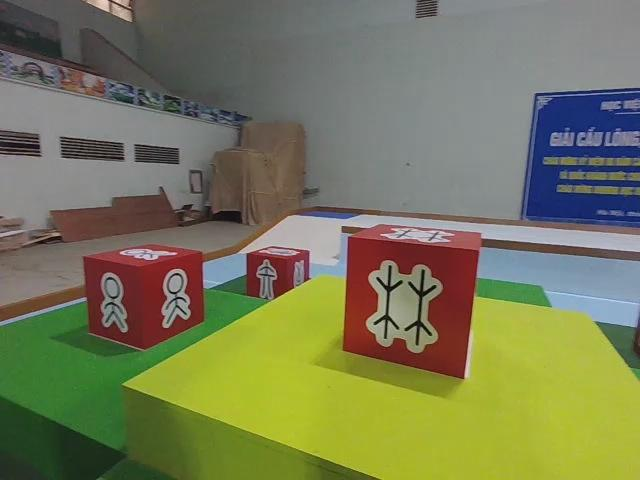R2 Fake: (244, 243, 311, 301)
R2 Real: (341, 221, 485, 382), (82, 241, 207, 351)
